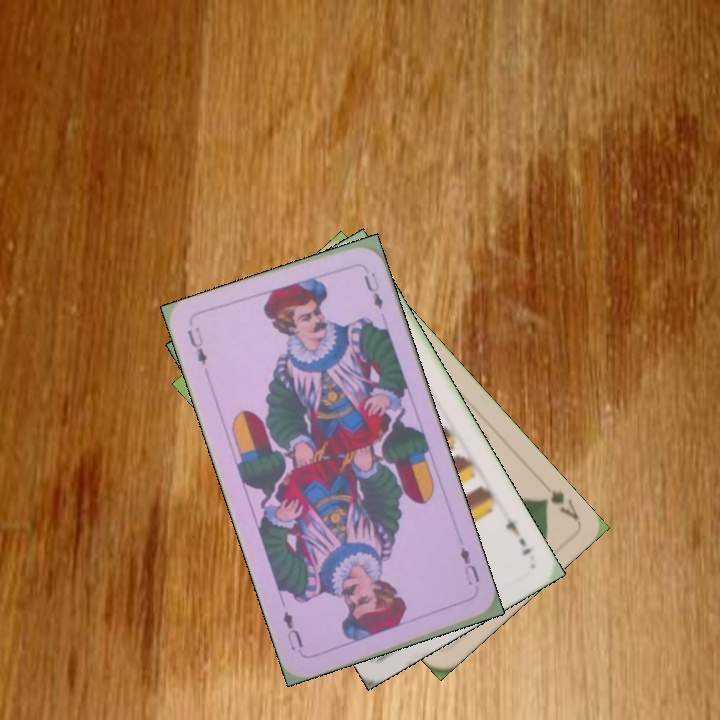E7: (501, 516, 534, 558)
EU: (183, 323, 210, 368), (456, 542, 482, 588)
GA: (538, 486, 581, 523)
